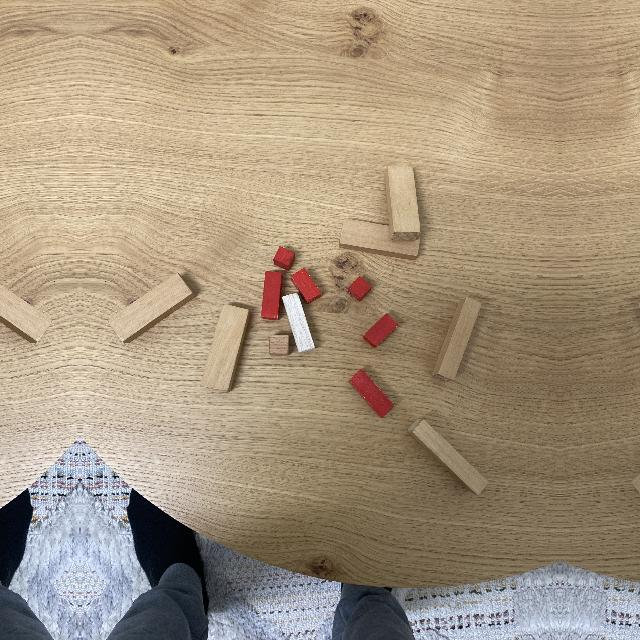block: (281, 292, 315, 354)
cube: (266, 332, 292, 356)
jenga: (407, 419, 488, 496), (108, 273, 196, 343), (201, 305, 250, 392), (435, 296, 481, 380), (337, 218, 419, 258), (0, 282, 52, 343), (385, 166, 421, 240)
red block: (349, 369, 394, 418), (363, 313, 398, 348), (261, 269, 283, 319), (291, 269, 321, 303)
red cube: (272, 244, 296, 270), (348, 275, 370, 301)
